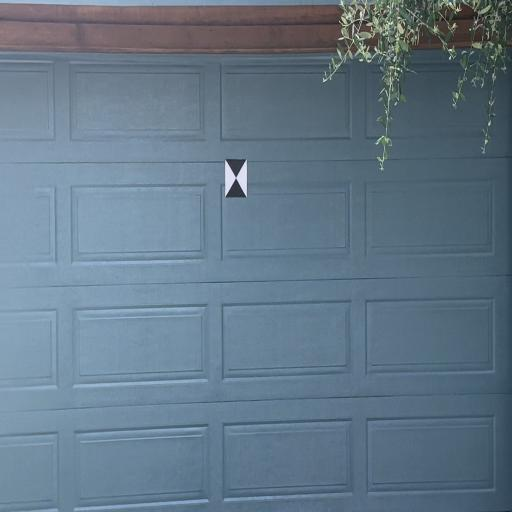target: (225, 158, 248, 198)
